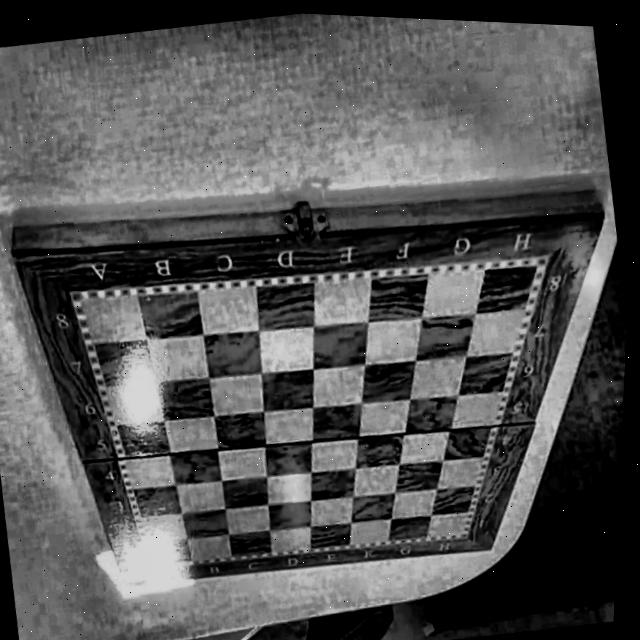chessboard: (69, 258, 547, 570)
p1: (139, 557, 158, 581)
p2: (59, 278, 80, 305)
p3: (535, 245, 555, 268)
p4: (459, 524, 475, 547)
